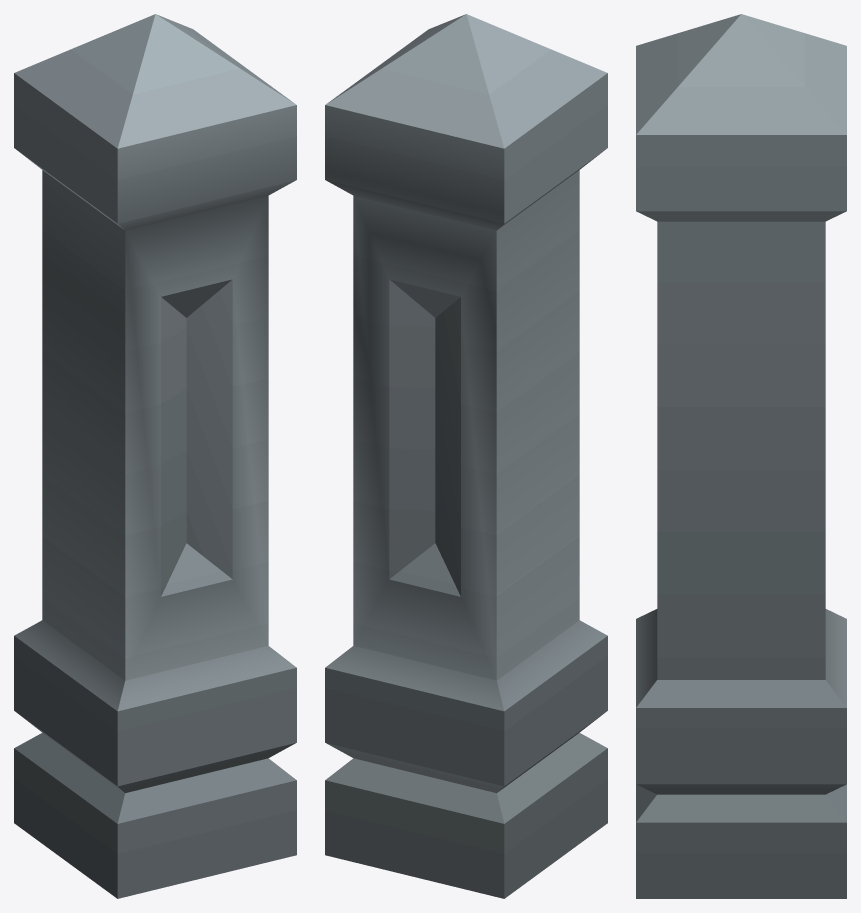
The model's file is hb_pillar.glb.
The picture shows the model from 3 angles, left to right: view 1: azimuth 30°, elevation 25°; view 2: azimuth 150°, elevation 25°; view 3: azimuth 270°, elevation 25°; orthographic projection.
Visible parts, largest first — view 1: pillar; view 2: pillar; view 3: pillar.
Boxes of the visible parts, box(x1,y1,x2,y2) form: pillar: box(14, 14, 296, 898); pillar: box(325, 14, 607, 898); pillar: box(636, 14, 846, 898).
Bounding box in the file's own units: 0.5455 × 2.4 × 0.5455.
1 material, 1 textured.
